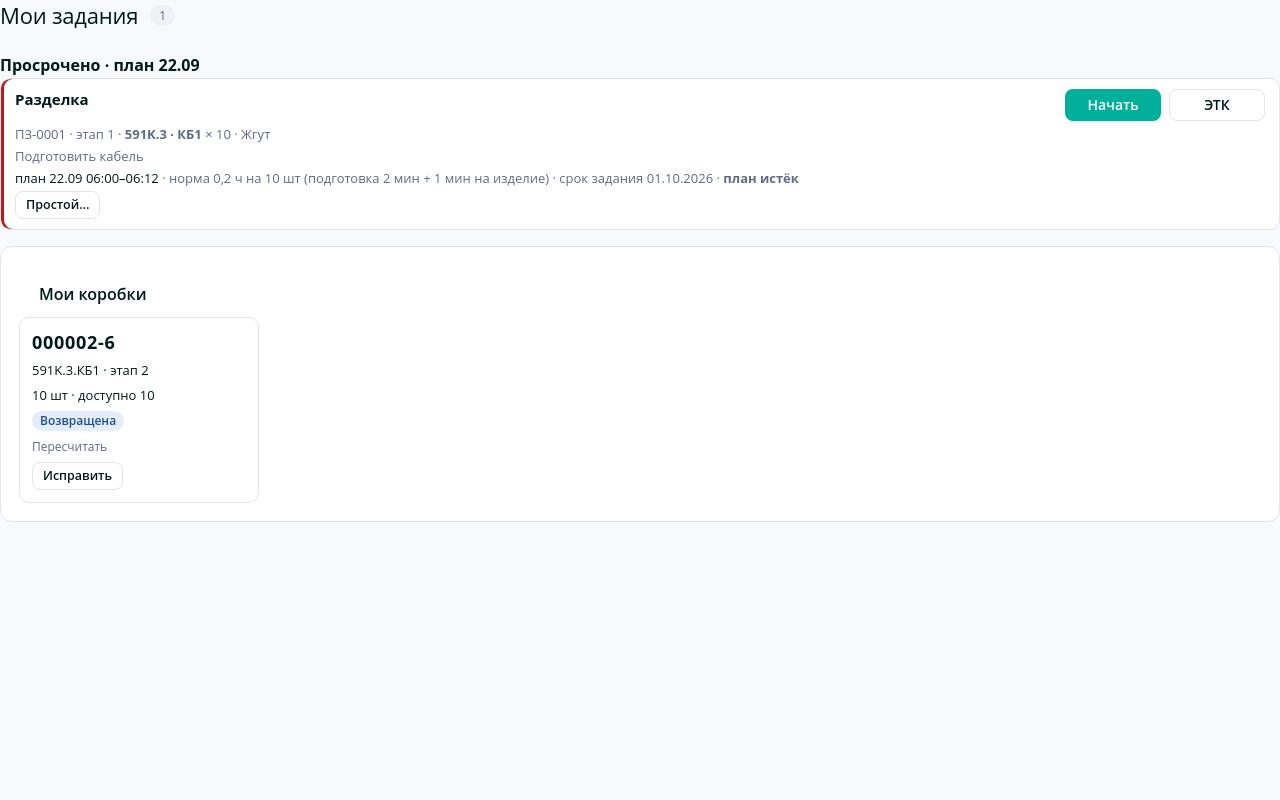
corrects one output of a returned box and shows that it waits for the master again
This screenshot has width=1280, height=800.
Click the button "Исправить": click(78, 476) [32,462,123,490]
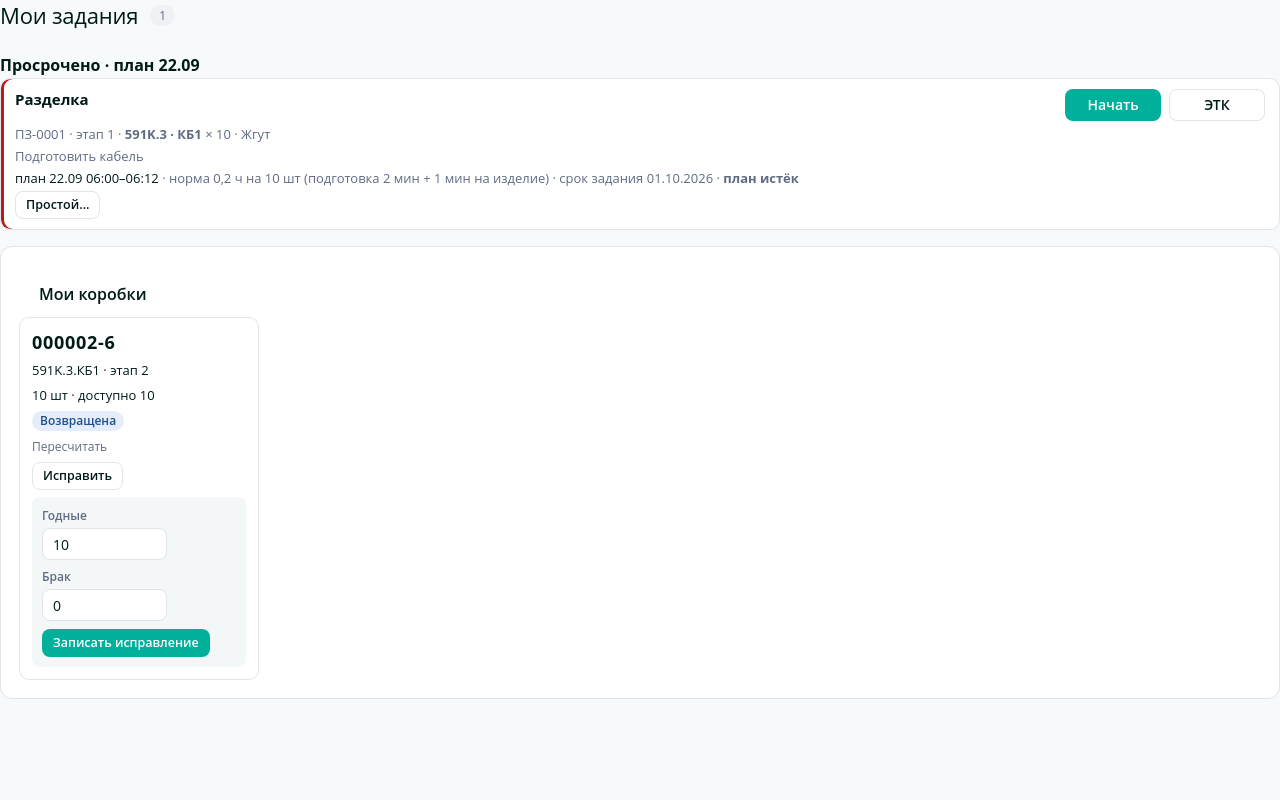
Result: the number field named "Годные в коробке 000002-6" holds "10"
Replace the text in the number field named "Годные в коробке 000002-6" with "8": (104, 544) [42,528,167,560]
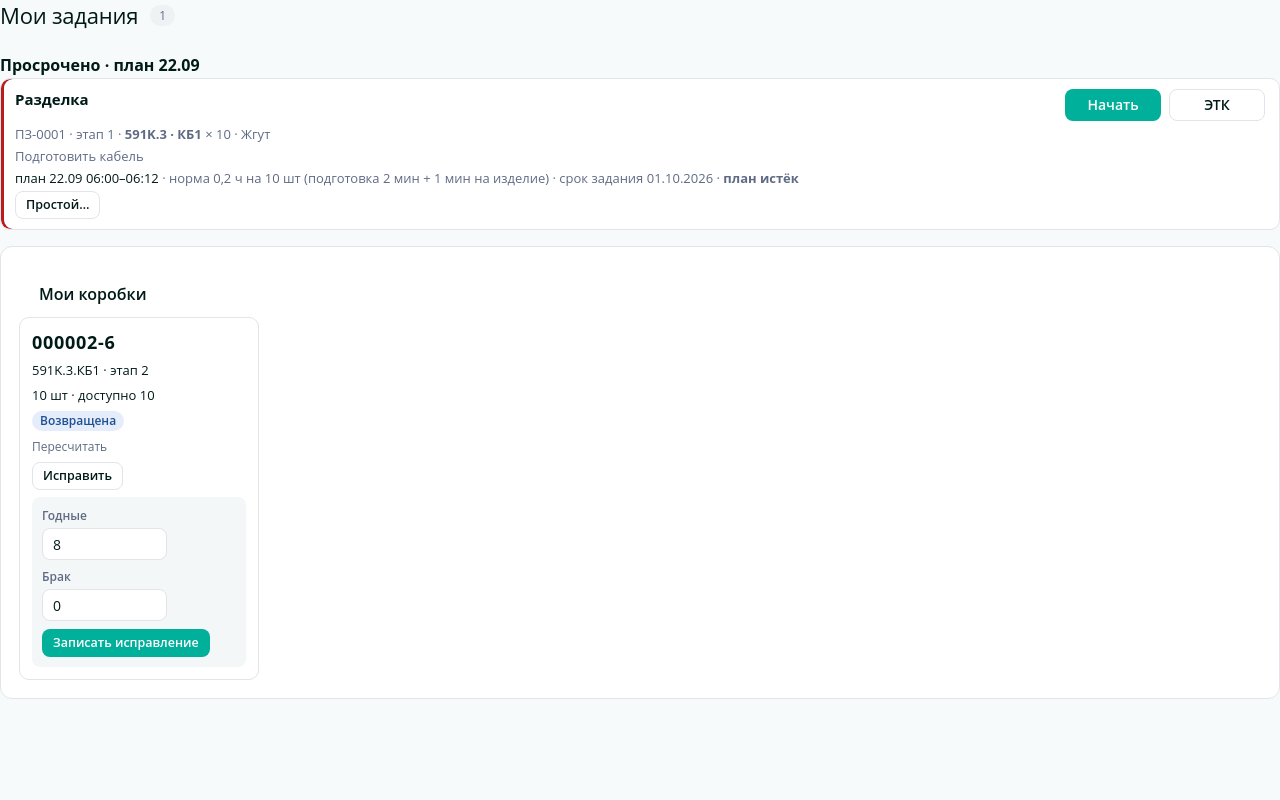
Click the button "Записать исправление": click(126, 643) [42,629,210,657]
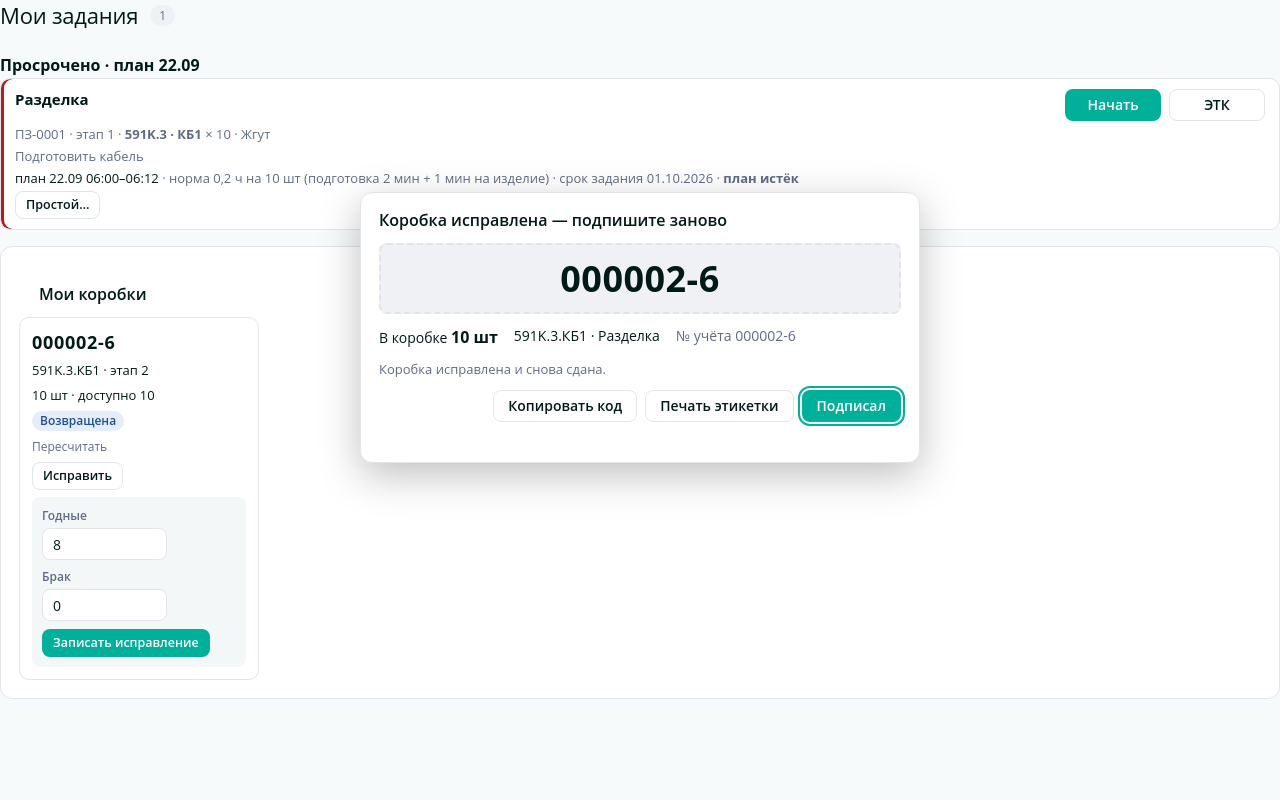
Result: the dialog "Коробка исправлена — подпишите заново" shows "000002-6" at [560,254,720,303]
